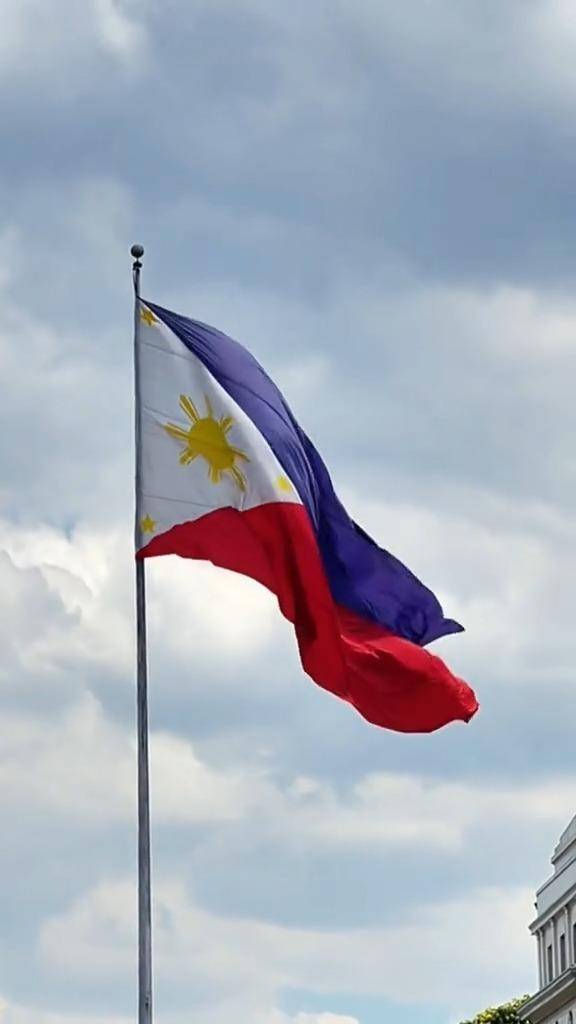Philippines: (136, 297, 477, 734)
